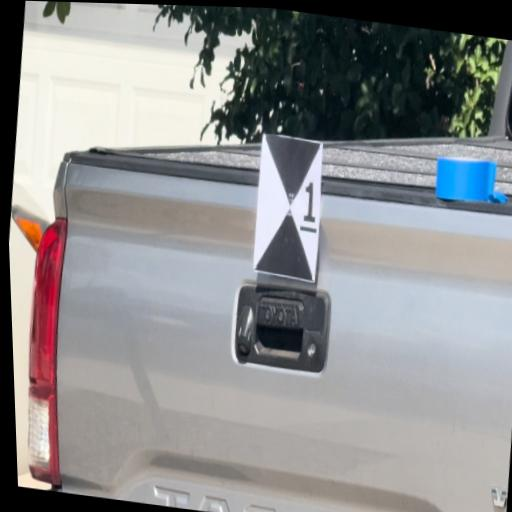target1: (249, 136, 330, 282)
